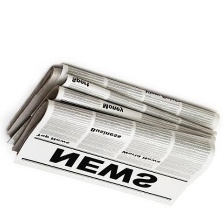news_paper: (2, 59, 223, 210)
